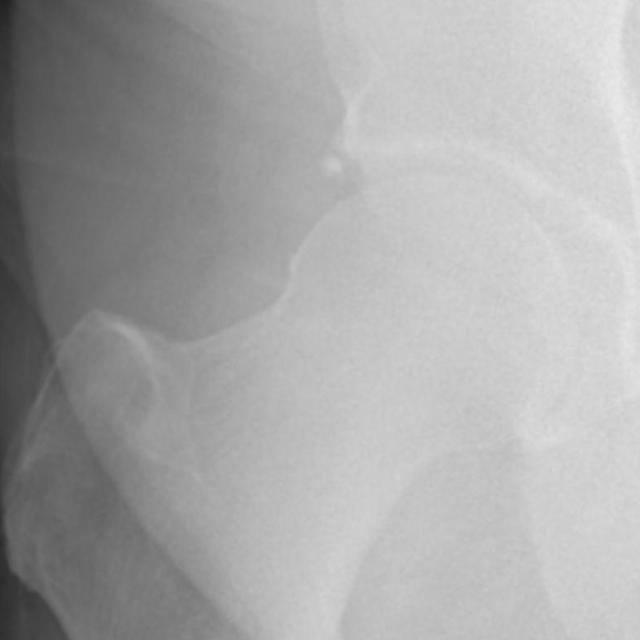Fitted_femural_head: (290, 180, 432, 290)
